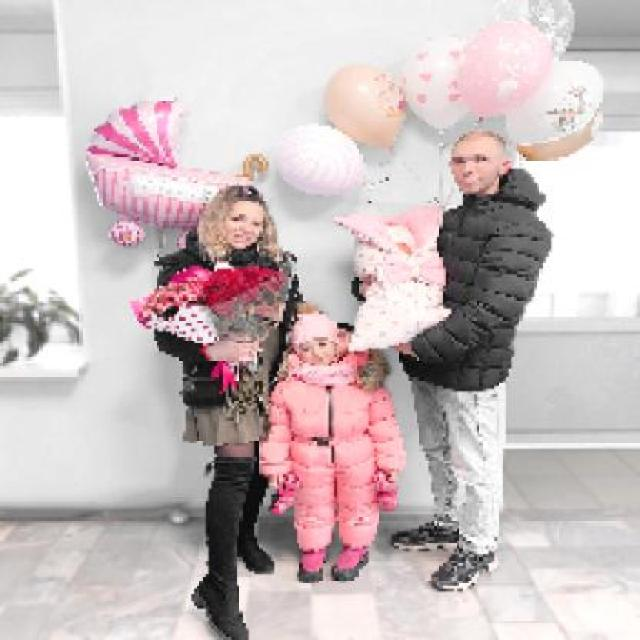child: (260, 302, 409, 584)
